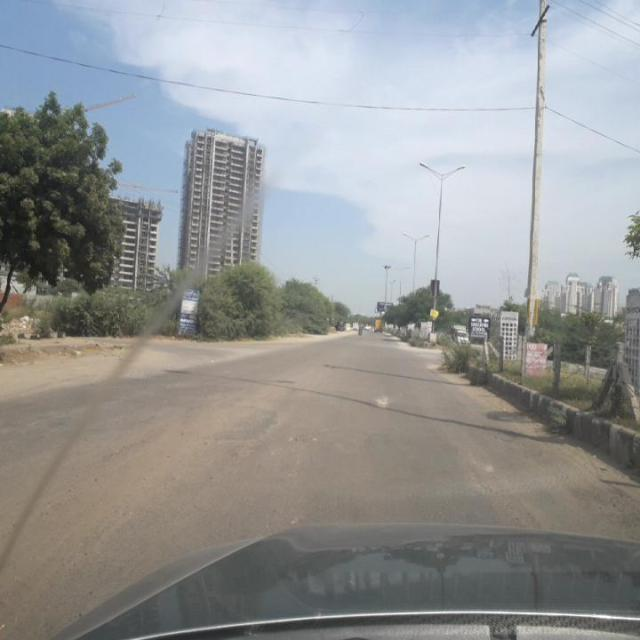D20: (453, 442, 639, 522)
D40: (283, 409, 382, 458)
